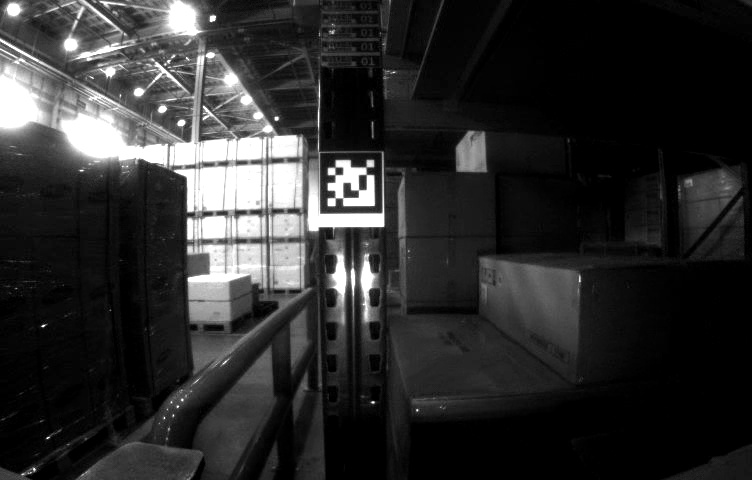True Barcode: (637, 355, 705, 416)
